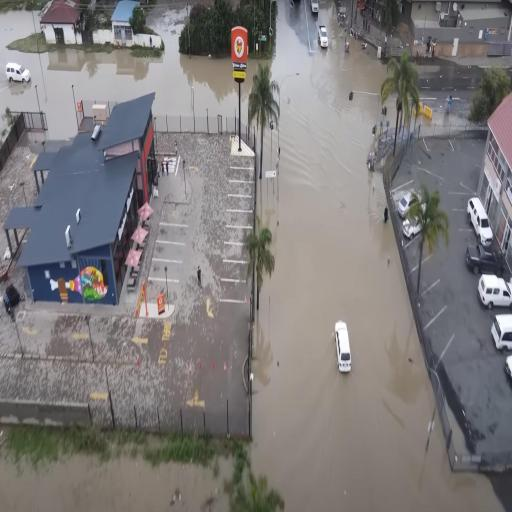flood: (251, 0, 501, 510), (0, 3, 237, 138), (0, 456, 228, 510), (241, 56, 272, 139), (263, 125, 272, 168), (272, 121, 278, 162), (248, 125, 254, 148)
house: (16, 89, 156, 311), (478, 91, 512, 284), (412, 2, 511, 63), (39, 0, 83, 46), (110, 0, 137, 44)
